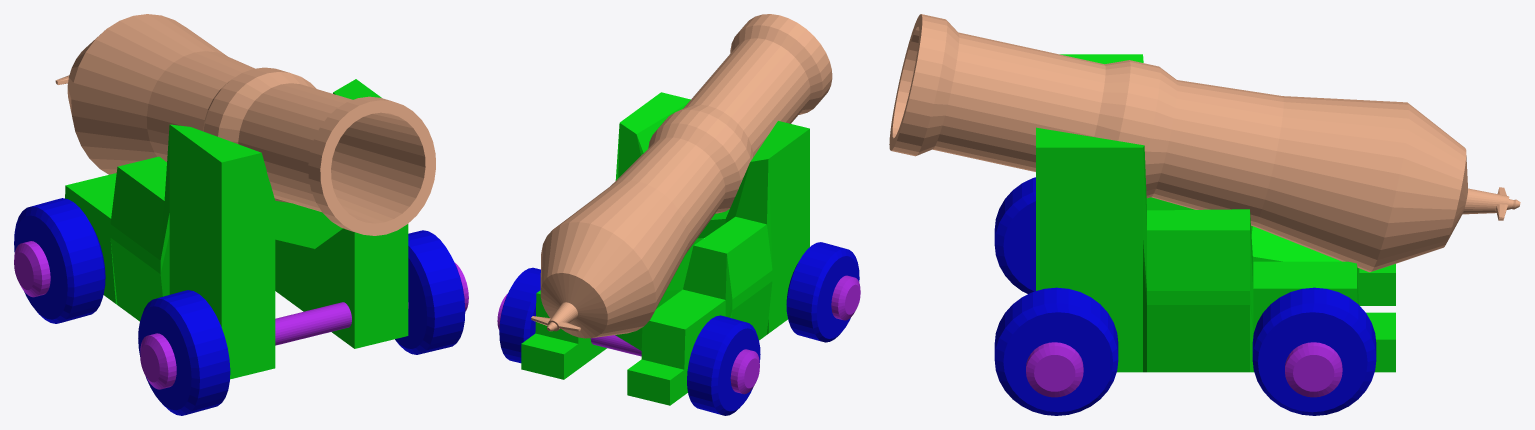
The model's file is canha.fbx.
The picture shows the model from 3 angles, left to right: view 1: azimuth 30°, elevation 25°; view 2: azimuth 150°, elevation 25°; view 3: azimuth 270°, elevation 25°; orthographic projection. The views are drawn at different scales.
Parts seen in each view (by area): view 1: Cube, Object, Cylinder.001, g; view 2: Object, Cube, Cylinder.001, g; view 3: Object, Cube, Cylinder.001, g.
Part boxes in pixels (x1,y1,x2,y2): Cube: (65,79,408,379); Object: (55,14,435,235); Cylinder.001: (14,198,465,415); g: (14,241,468,389); Object: (531,14,832,338); Cube: (521,92,809,405); Cylinder.001: (499,242,859,415); g: (497,275,860,394); Object: (889,14,1520,272); Cube: (1036,54,1395,372); Cylinder.001: (994,177,1376,415); g: (1026,342,1342,397).
Bounding box in the file's own units: 627 × 632 × 1083.
